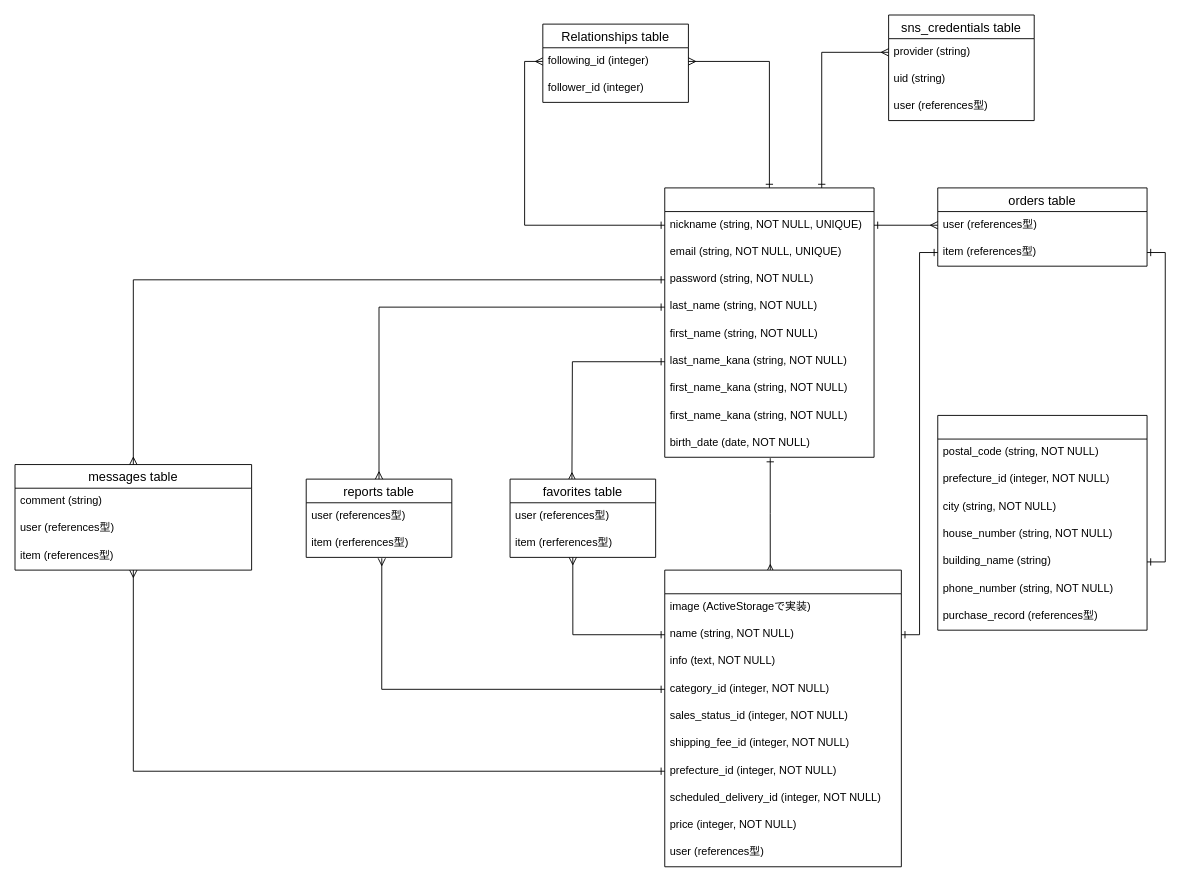
This 1180x882 diagram has some shape labels left out. Each missing label, with the box of its shape:
addresses table: (937, 415, 1147, 630)
items table: (664, 569, 901, 867)
users table: (664, 187, 874, 457)
